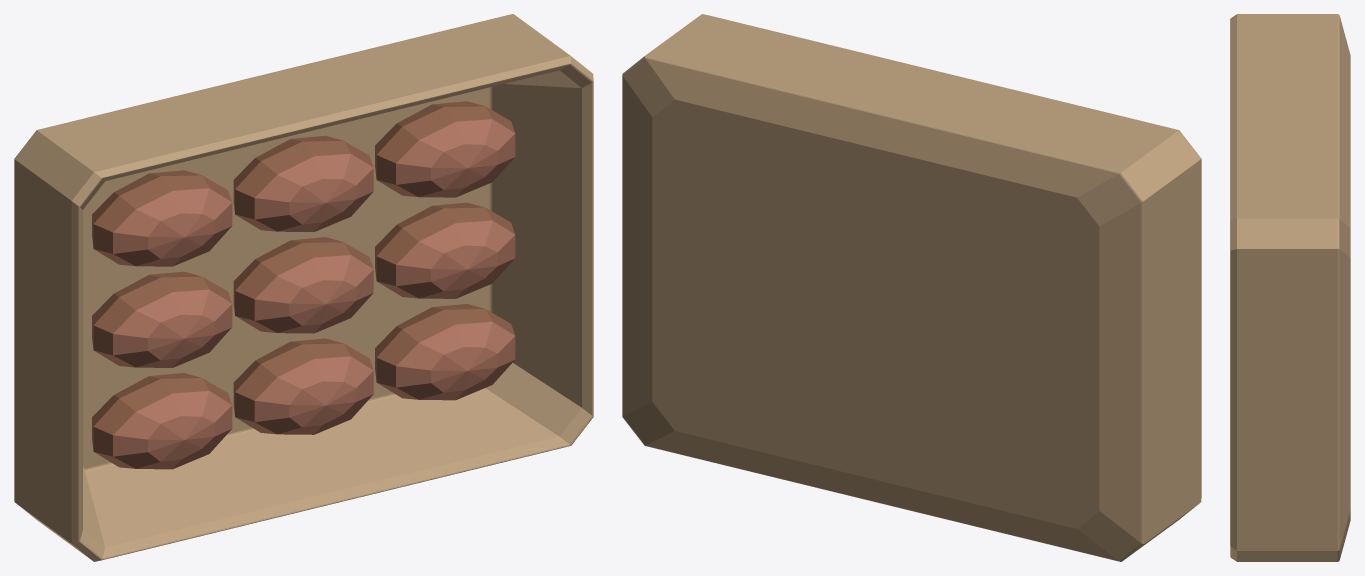
The model's file is dates.glb.
The picture shows the model from 3 angles, left to right: view 1: azimuth 30°, elevation 25°; view 2: azimuth 150°, elevation 25°; view 3: azimuth 270°, elevation 25°; orthographic projection. The views are drawn at different scales.
Parts seen in each view (by area): view 1: dates; view 2: dates; view 3: dates.
Boxes of the visible parts, <box> form: dates: <box>14,14,593,561</box>; dates: <box>622,14,1201,561</box>; dates: <box>1230,14,1350,561</box>.
Size of the model in its own units: 0.14 by 0.1 by 0.0318.
